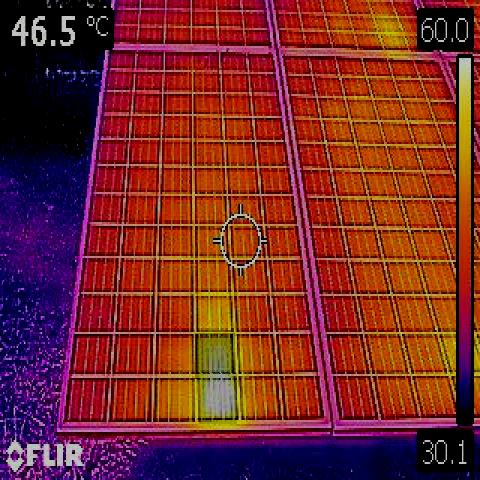fault: (199, 373, 237, 424), (196, 333, 236, 379)
